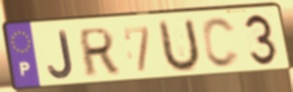3: (243, 11, 280, 70)
7: (123, 25, 152, 73)
C: (200, 15, 242, 70)
J: (46, 29, 75, 81)
R: (78, 25, 120, 79)
U: (157, 16, 202, 75)
